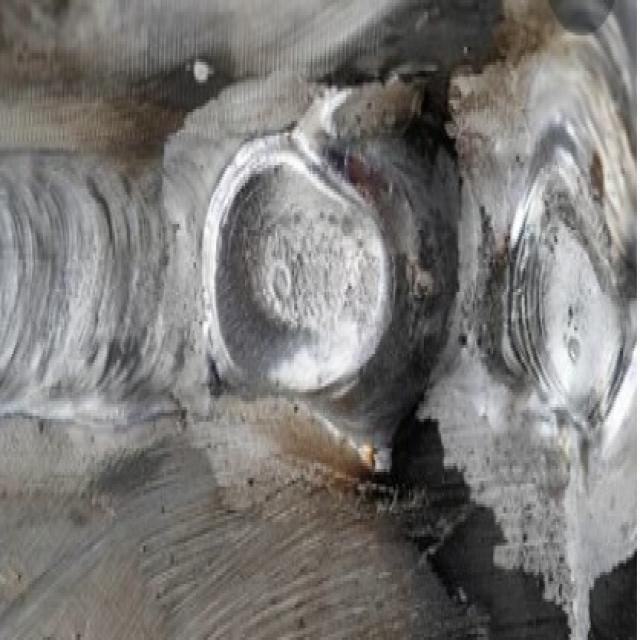Bad Weld: (2, 53, 636, 616)
